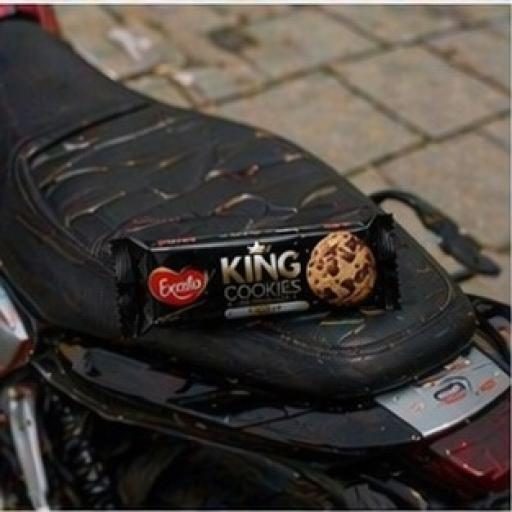king-cooking: (74, 142, 434, 368)
